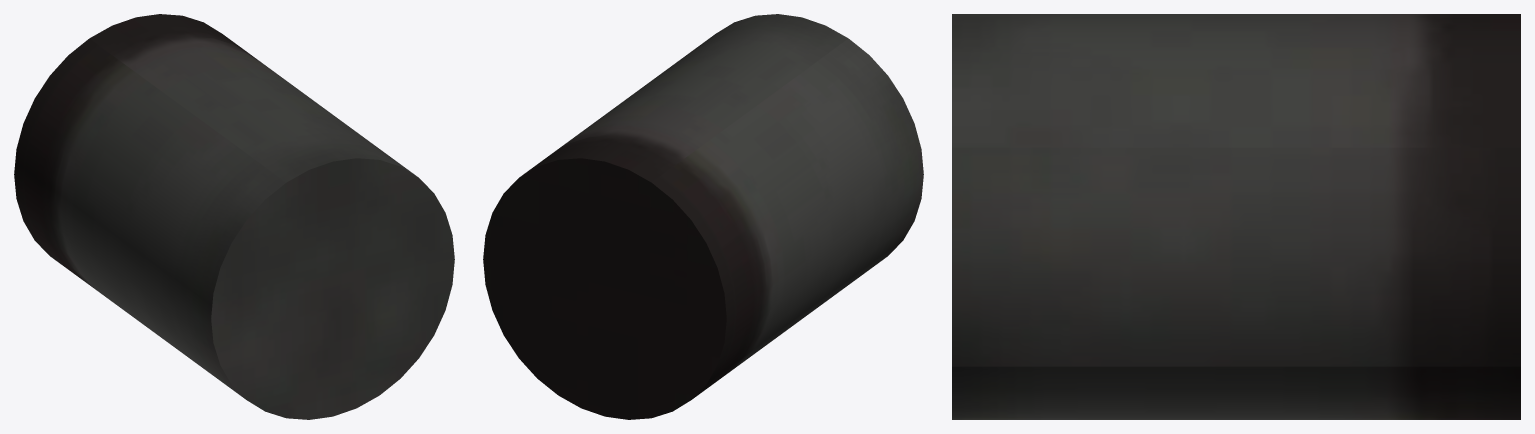
The model's file is body__stem_nn.glb.
3 renders of one model, left to right at view 1: azimuth 30°, elevation 25°; view 2: azimuth 150°, elevation 25°; view 3: azimuth 270°, elevation 25°, orthographic. The views are drawn at different scales.
Parts seen in each view (by area): view 1: geometry_0; view 2: geometry_0; view 3: geometry_0.
Boxes of the visible parts, bbox=[...] form: geometry_0: bbox=[14, 14, 454, 419]; geometry_0: bbox=[483, 14, 923, 419]; geometry_0: bbox=[952, 14, 1520, 419].
Size of the model in its own units: 0.01 by 0.01 by 0.014.
Materials: 1 (1 with a texture image).
